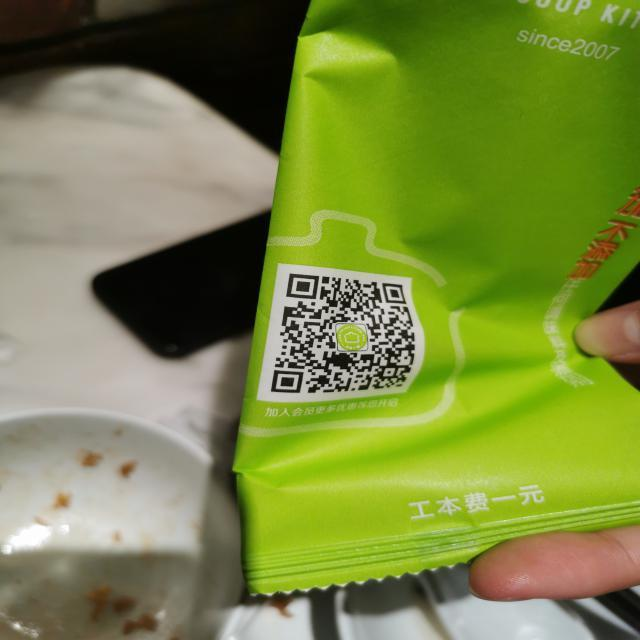qr_code: (268, 274, 416, 396)
